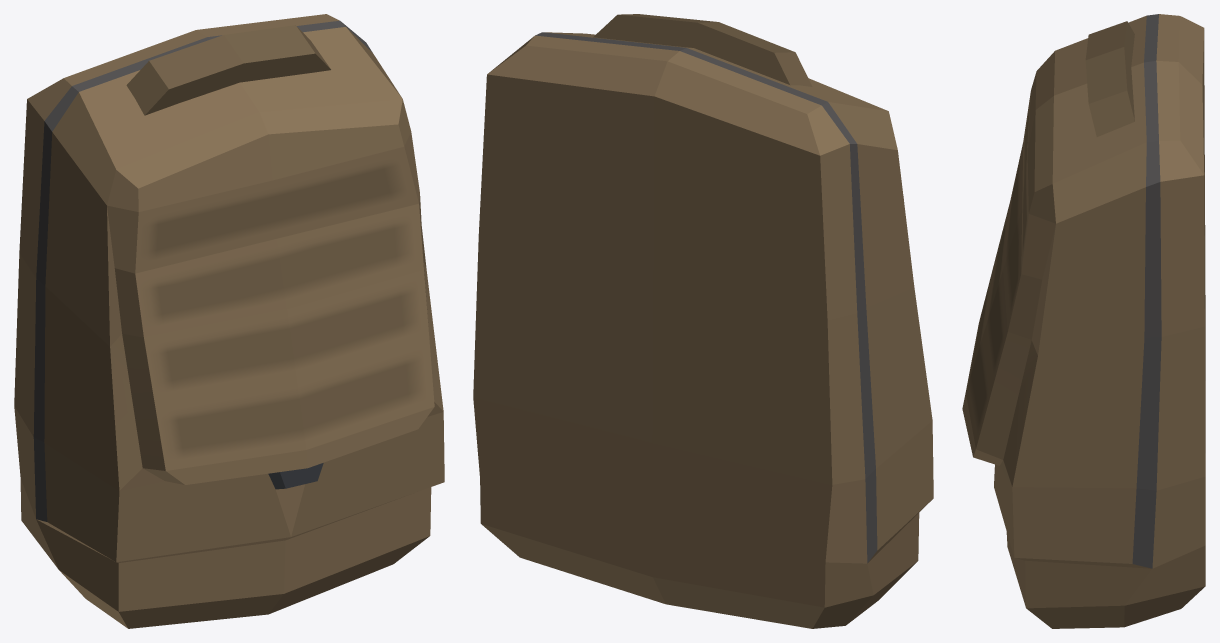
The model's file is SM_Chr_Attach_Backpack_02.fbx.
3 views of the same model, side by side, from view 1: azimuth 30°, elevation 25°; view 2: azimuth 150°, elevation 25°; view 3: azimuth 270°, elevation 25° (orthographic). The views are drawn at different scales.
Visible parts, largest first — view 1: SM_Chr_Attach_Backpack_02; view 2: SM_Chr_Attach_Backpack_02; view 3: SM_Chr_Attach_Backpack_02.
Boxes of the visible parts, x1,y1,x2,y2 form: SM_Chr_Attach_Backpack_02: (14, 14, 444, 628); SM_Chr_Attach_Backpack_02: (473, 14, 933, 628); SM_Chr_Attach_Backpack_02: (962, 14, 1205, 628).
Size of the model in its own units: 27.67 by 41.68 by 17.29.
